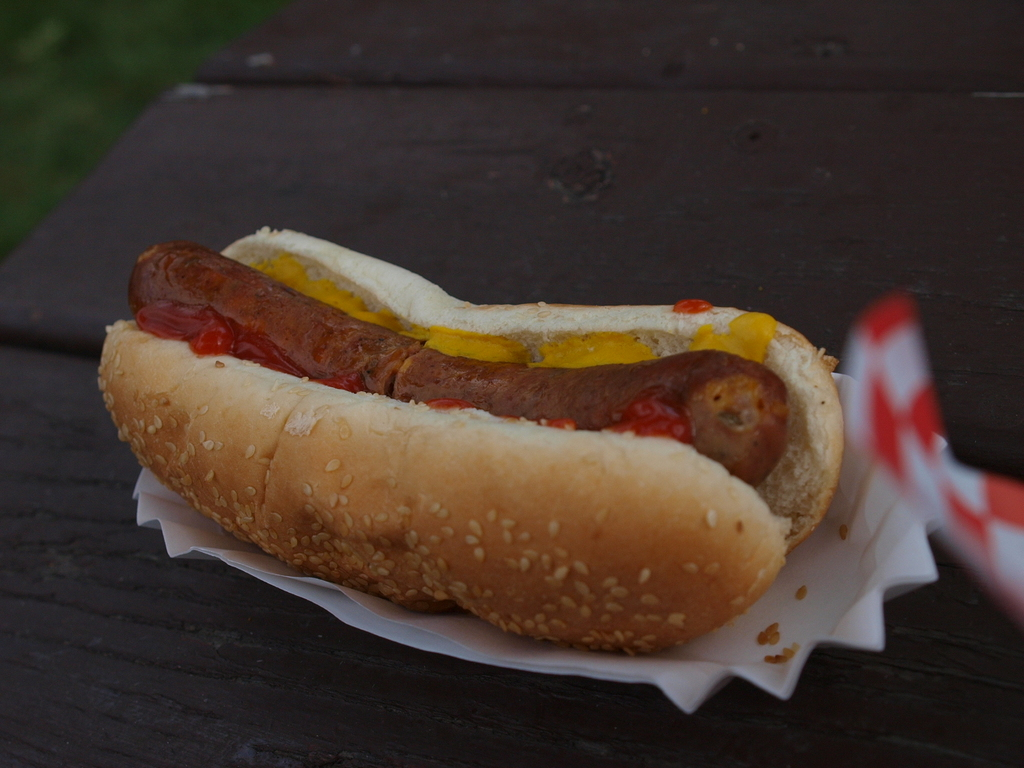hot_dog: (98, 206, 850, 663)
